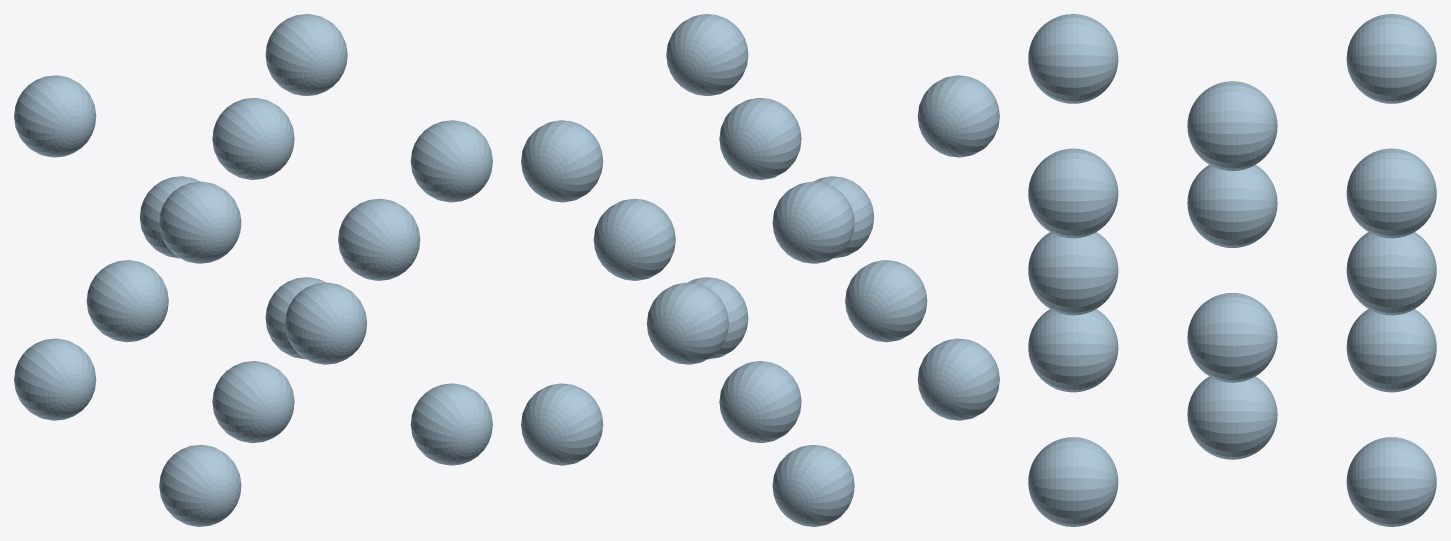
File: Al_wrl.fbx
3 views of the same model, side by side, from view 1: azimuth 30°, elevation 25°; view 2: azimuth 150°, elevation 25°; view 3: azimuth 270°, elevation 25° (orthographic). The views are drawn at different scales.
Visible parts, largest first — view 1: atom0_IndexedFaceSet.006, atom0_IndexedFaceSet.005, atom0_IndexedFaceSet.004, atom0_IndexedFaceSet.003, atom0_IndexedFaceSet.002, atom0_IndexedFaceSet.009, atom0_IndexedFaceSet.008, atom0_IndexedFaceSet.007, atom0_IndexedFaceSet, atom0_IndexedFaceSet.012, atom0_IndexedFaceSet.011, atom0_IndexedFaceSet.010 (+2 smaller); view 2: atom0_IndexedFaceSet.007, atom0_IndexedFaceSet.005, atom0_IndexedFaceSet.004, atom0_IndexedFaceSet.003, atom0_IndexedFaceSet.002, atom0_IndexedFaceSet.009, atom0_IndexedFaceSet.008, atom0_IndexedFaceSet.006, atom0_IndexedFaceSet.001, atom0_IndexedFaceSet.013, atom0_IndexedFaceSet.011, atom0_IndexedFaceSet.010 (+2 smaller); view 3: atom0_IndexedFaceSet.003, atom0_IndexedFaceSet.002, atom0_IndexedFaceSet.007, atom0_IndexedFaceSet.006, atom0_IndexedFaceSet.001, atom0_IndexedFaceSet, atom0_IndexedFaceSet.011, atom0_IndexedFaceSet.008, atom0_IndexedFaceSet.010, atom0_IndexedFaceSet.013, atom0_IndexedFaceSet.012, atom0_IndexedFaceSet.005 (+2 smaller).
Boxes of the visible parts, x1,y1,x2,y2 form: atom0_IndexedFaceSet.006: [159, 181, 241, 263]; atom0_IndexedFaceSet.005: [14, 338, 96, 420]; atom0_IndexedFaceSet.004: [159, 445, 241, 526]; atom0_IndexedFaceSet.003: [265, 14, 347, 95]; atom0_IndexedFaceSet.002: [410, 120, 492, 202]; atom0_IndexedFaceSet.009: [86, 260, 168, 342]; atom0_IndexedFaceSet.008: [338, 198, 420, 280]; atom0_IndexedFaceSet.007: [14, 75, 96, 157]; atom0_IndexedFaceSet: [410, 383, 492, 465]; atom0_IndexedFaceSet.012: [285, 282, 367, 364]; atom0_IndexedFaceSet.011: [212, 98, 294, 179]; atom0_IndexedFaceSet.010: [212, 361, 294, 442]; atom0_IndexedFaceSet.007: [772, 181, 854, 263]; atom0_IndexedFaceSet.005: [772, 445, 854, 526]; atom0_IndexedFaceSet.004: [917, 338, 999, 420]; atom0_IndexedFaceSet.003: [521, 120, 603, 202]; atom0_IndexedFaceSet.002: [666, 14, 748, 95]; atom0_IndexedFaceSet.009: [845, 260, 927, 342]; atom0_IndexedFaceSet.008: [593, 198, 675, 280]; atom0_IndexedFaceSet.006: [917, 75, 999, 157]; atom0_IndexedFaceSet.001: [521, 383, 603, 465]; atom0_IndexedFaceSet.013: [646, 282, 728, 364]; atom0_IndexedFaceSet.011: [719, 98, 801, 179]; atom0_IndexedFaceSet.010: [719, 361, 801, 442]; atom0_IndexedFaceSet.003: [1346, 148, 1436, 238]; atom0_IndexedFaceSet.002: [1028, 148, 1118, 238]; atom0_IndexedFaceSet.007: [1346, 14, 1436, 103]; atom0_IndexedFaceSet.006: [1028, 14, 1118, 103]; atom0_IndexedFaceSet.001: [1346, 437, 1436, 526]; atom0_IndexedFaceSet: [1028, 437, 1118, 526]; atom0_IndexedFaceSet.011: [1187, 81, 1277, 170]; atom0_IndexedFaceSet.008: [1187, 293, 1277, 382]; atom0_IndexedFaceSet.010: [1187, 376, 1277, 459]; atom0_IndexedFaceSet.013: [1346, 232, 1436, 315]; atom0_IndexedFaceSet.012: [1028, 232, 1118, 315]; atom0_IndexedFaceSet.005: [1346, 309, 1436, 392].
Bounding box in the file's own units: 518 × 518 × 518.
